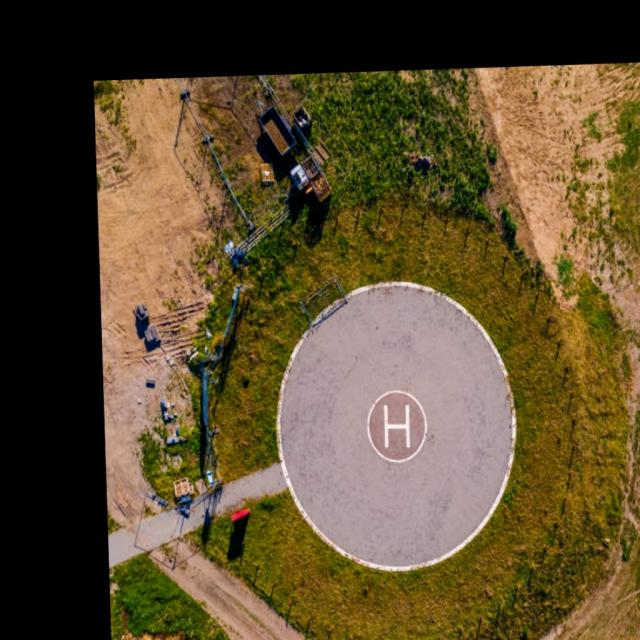helipad: (364, 386, 428, 464)
